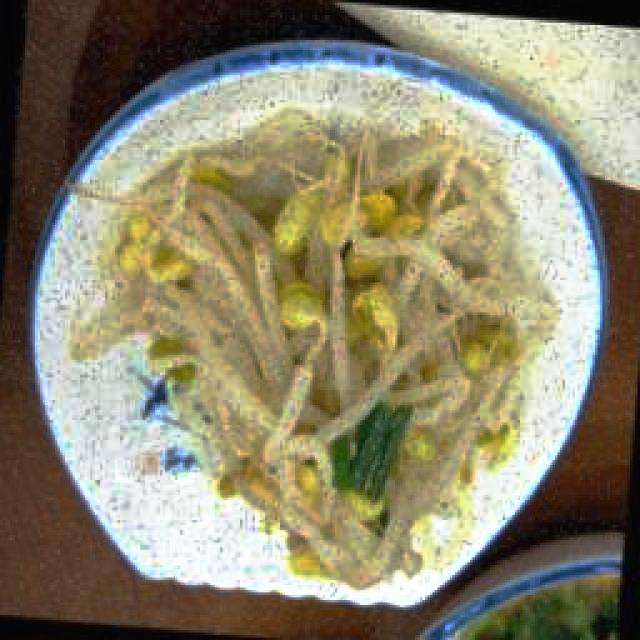mung_bean_sprouts: (115, 130, 530, 582)
